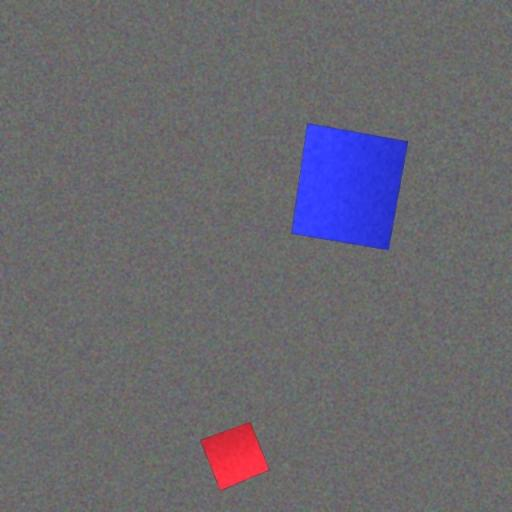BLUE_SQUARE: (290, 122, 409, 252)
RED_SQUARE: (200, 421, 270, 491)
